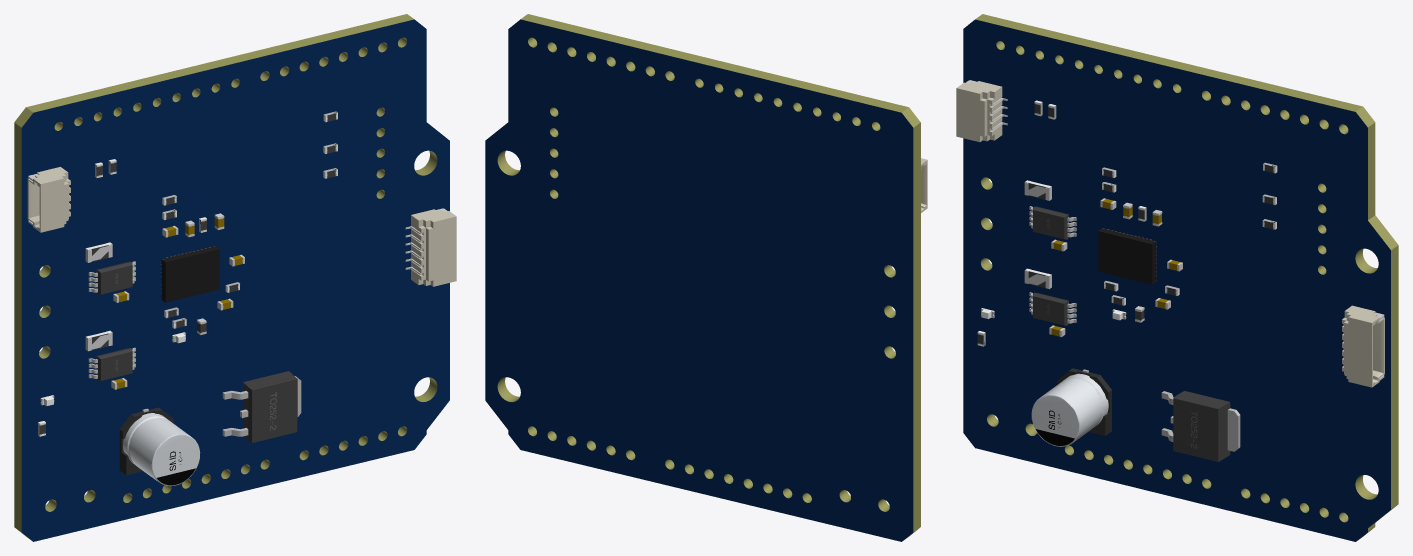
The model's file is 3D_SimpleFOCShieldV4.PcbDoc_2026-11-17.obj.
The picture shows the model from 3 angles, left to right: view 1: azimuth 30°, elevation 25°; view 2: azimuth 150°, elevation 25°; view 3: azimuth 330°, elevation 25°; orthographic projection.
Bounding box in the file's own units: 55.39 × 53.23 × 8.68.
